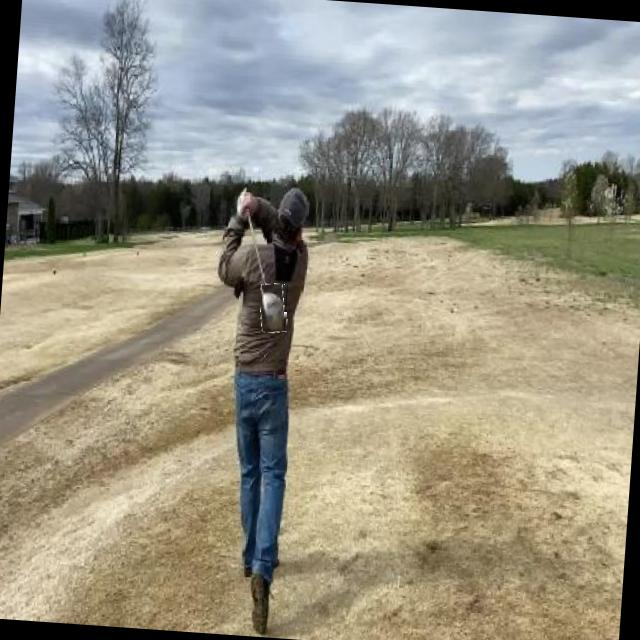club head: (258, 282, 288, 332)
